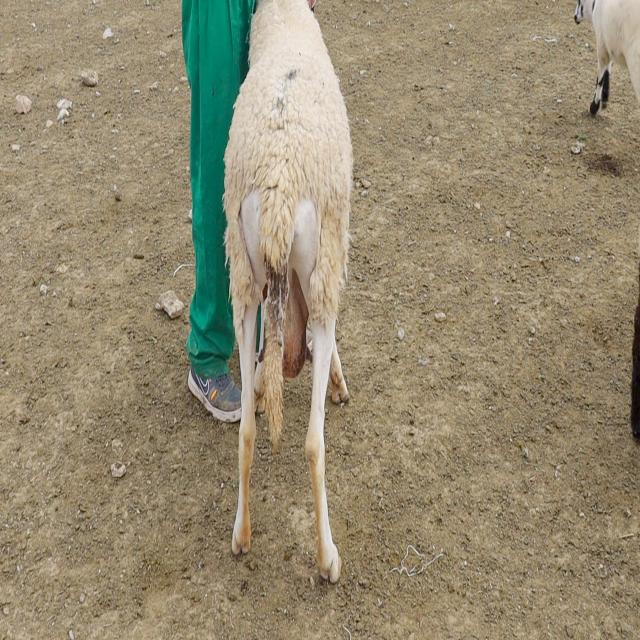Score_2: (223, 0, 353, 581)
